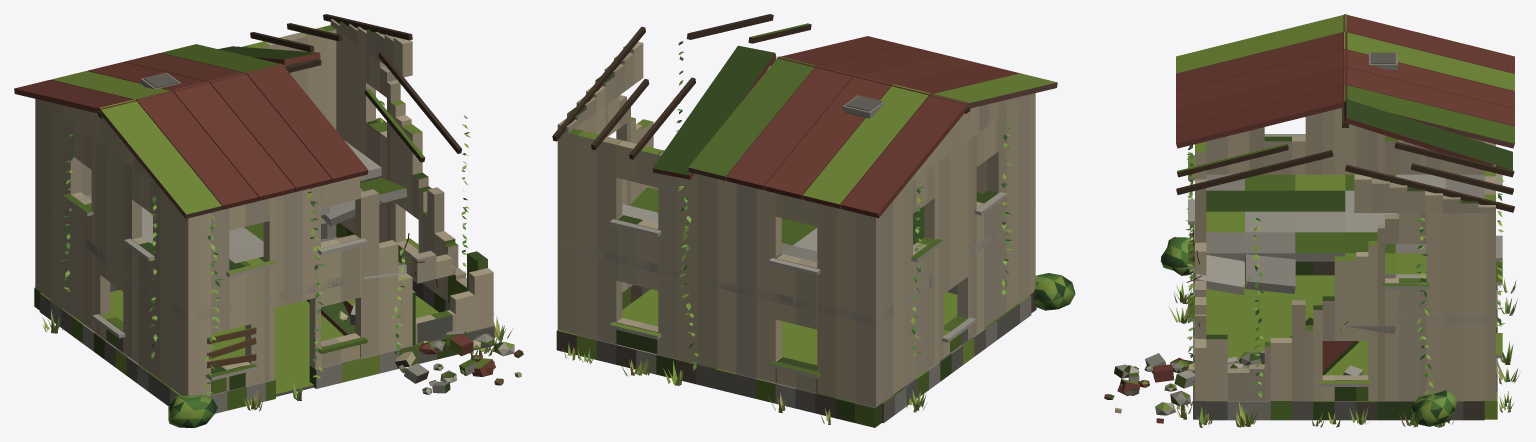
Rendered from house_ruin_a.glb.
3 views of the same model, side by side, from view 1: azimuth 30°, elevation 25°; view 2: azimuth 150°, elevation 25°; view 3: azimuth 270°, elevation 25° (orthographic). The views are drawn at different scales.
Parts seen in each view (by area): view 1: ruin_a; view 2: ruin_a; view 3: ruin_a.
Part boxes in pixels (box(x1,y1,x2,y2)): ruin_a: box(14, 14, 523, 427); ruin_a: box(552, 14, 1075, 427); ruin_a: box(1104, 14, 1518, 427).
Bounding box in the file's own units: 9.05 × 6.39 × 9.16.
